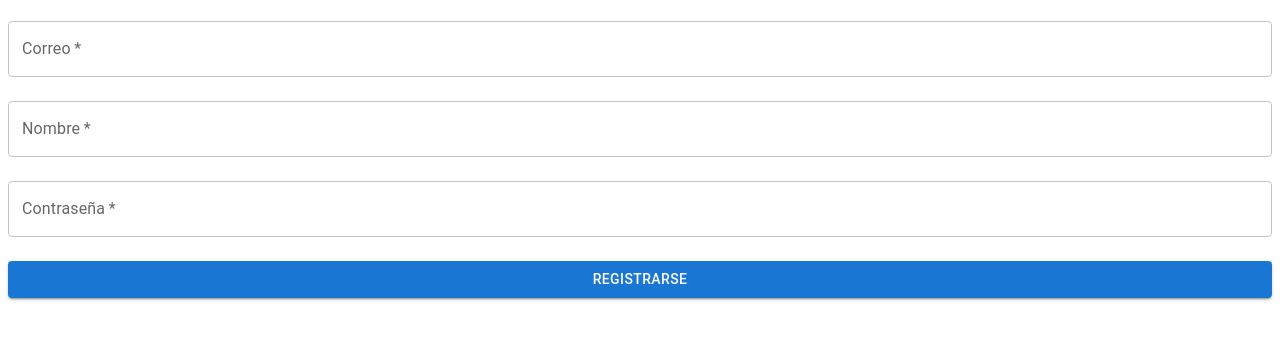
Test case: RegisterForm › muestra mensaje de éxito si el registro es exitoso
Type "test@test.com" into the field labelled "Correo *".
click(640, 49); type("test@test.com")  # box [8,21,1272,77]
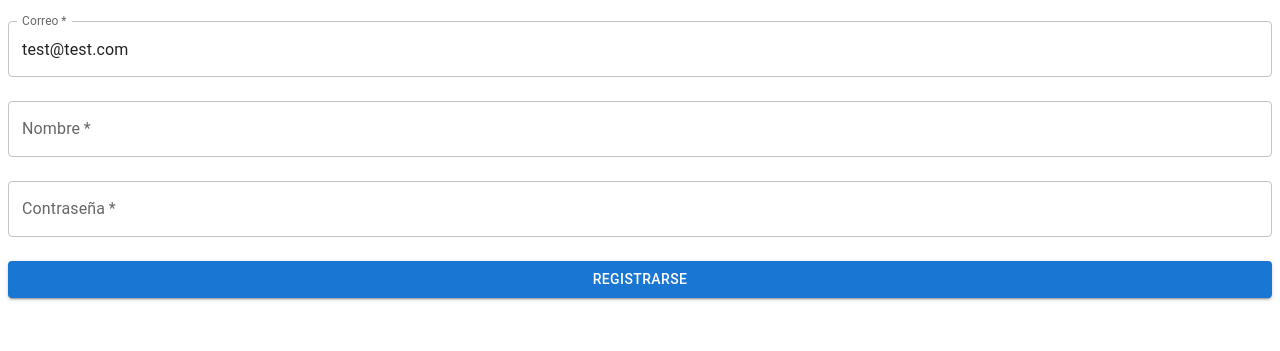
Type "Ignacio" into the field labelled "Nombre *".
click(640, 129); type("Ignacio")  # box [8,101,1272,157]
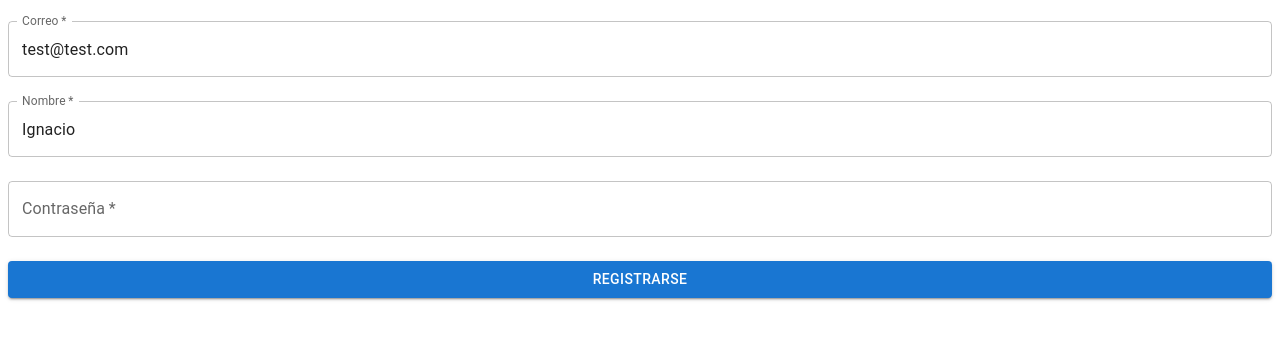
Type "123456" into the password field labelled "Contraseña *".
click(640, 209); type("123456")  # box [8,181,1272,237]
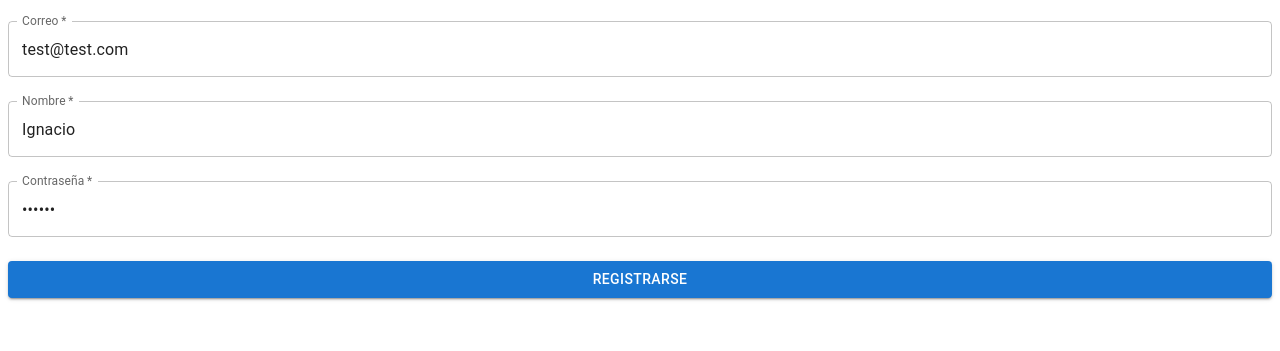
Click the button "Registrarse".
click(640, 279)  # box [8,261,1272,298]
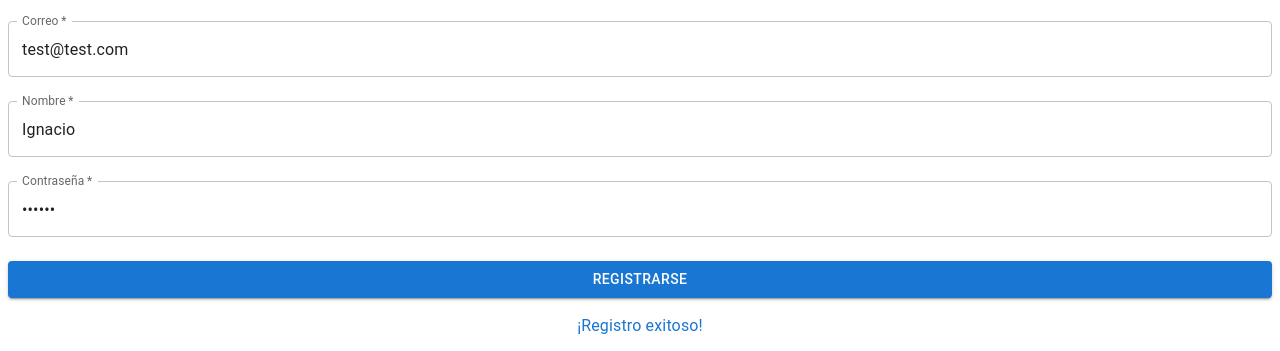
Expected: the text "¡Registro exitoso!" is shown, [577,316,703,334]
